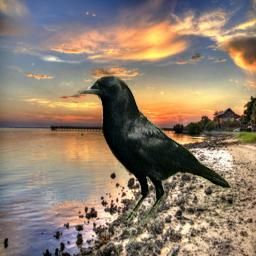Crow: (75, 75, 232, 224)
